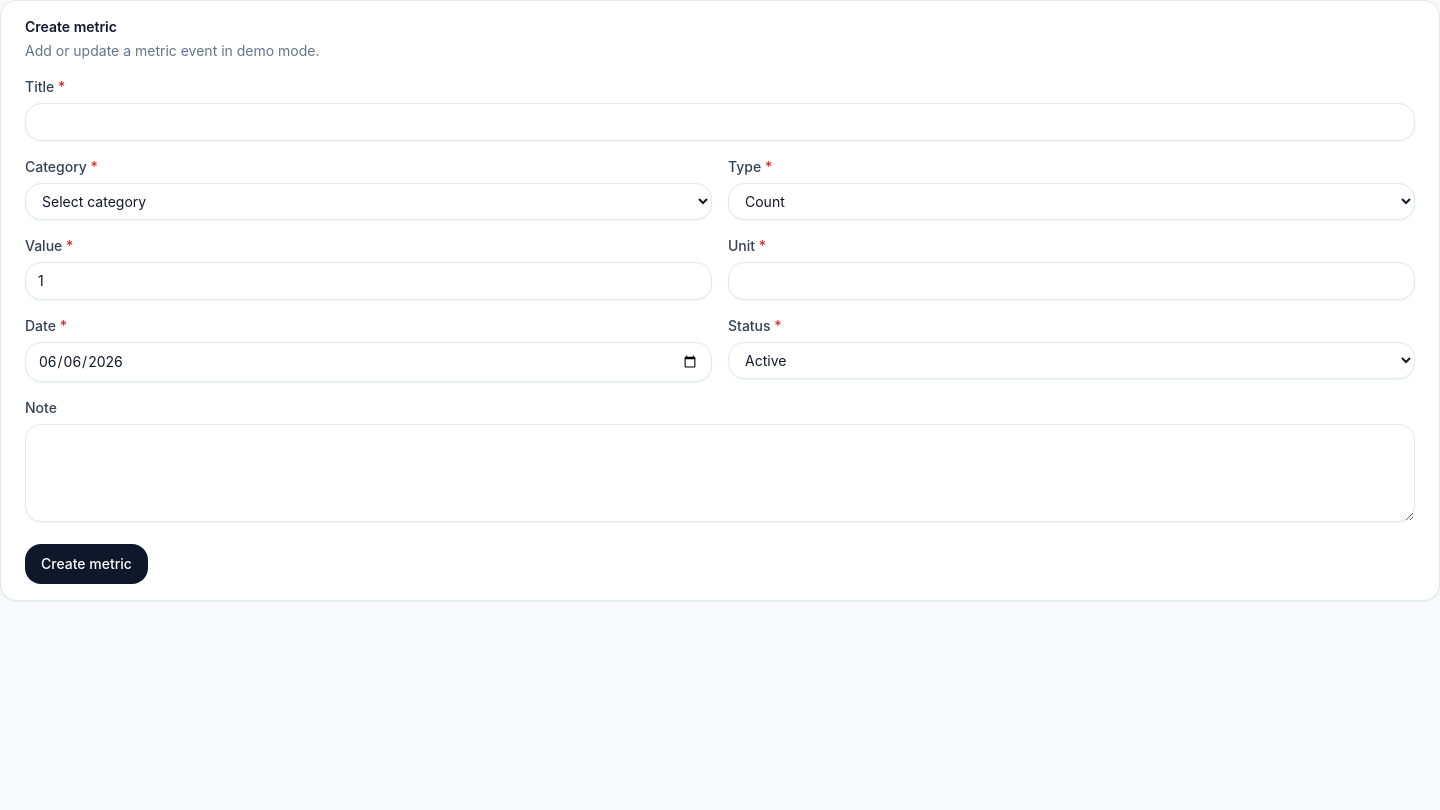
Test: MetricForm › shows validation errors for empty submit
Step 1. Click the button "Create metric" → (86, 564), box [25,544,148,584]
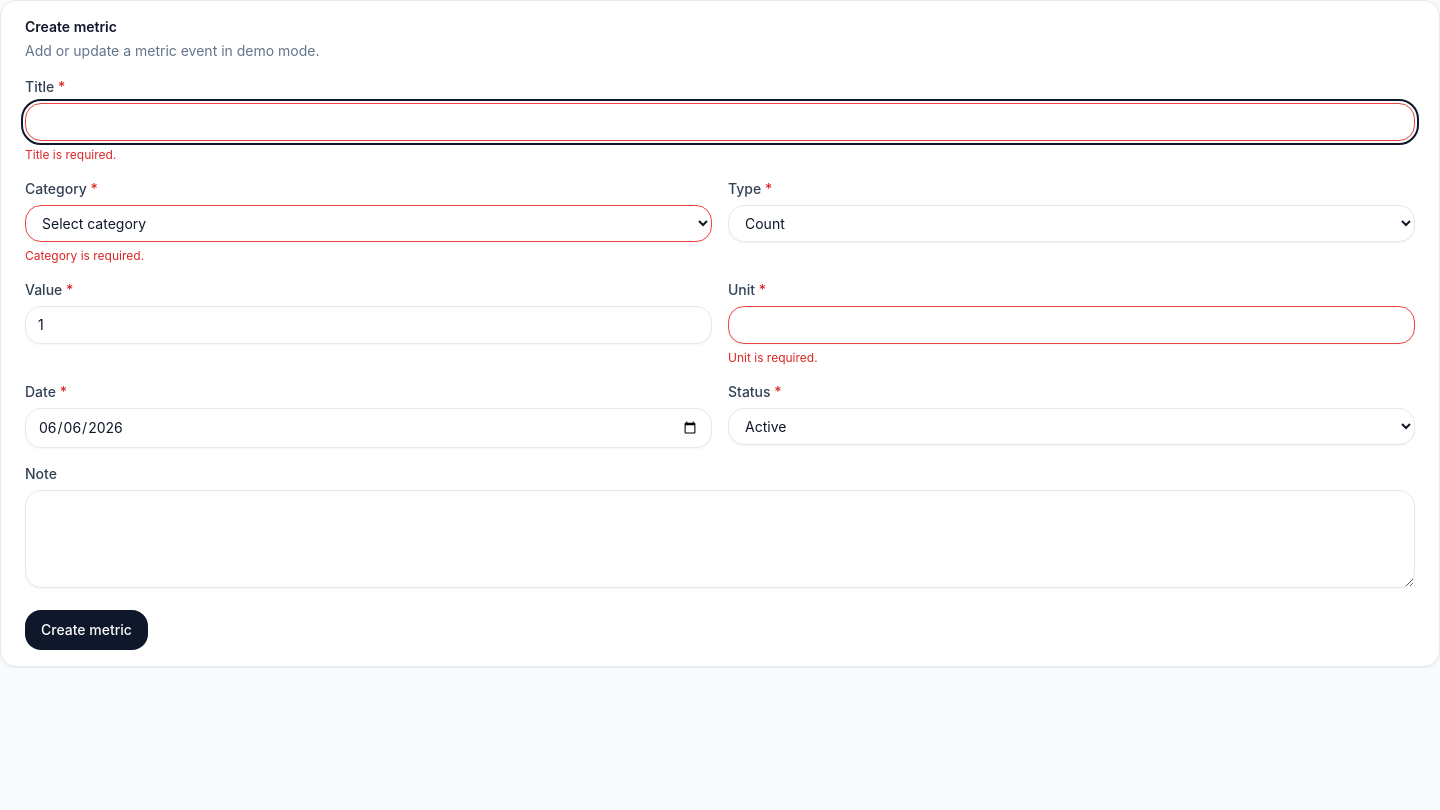
Expected: the text "Title is required." is shown, [25,147,116,162]
